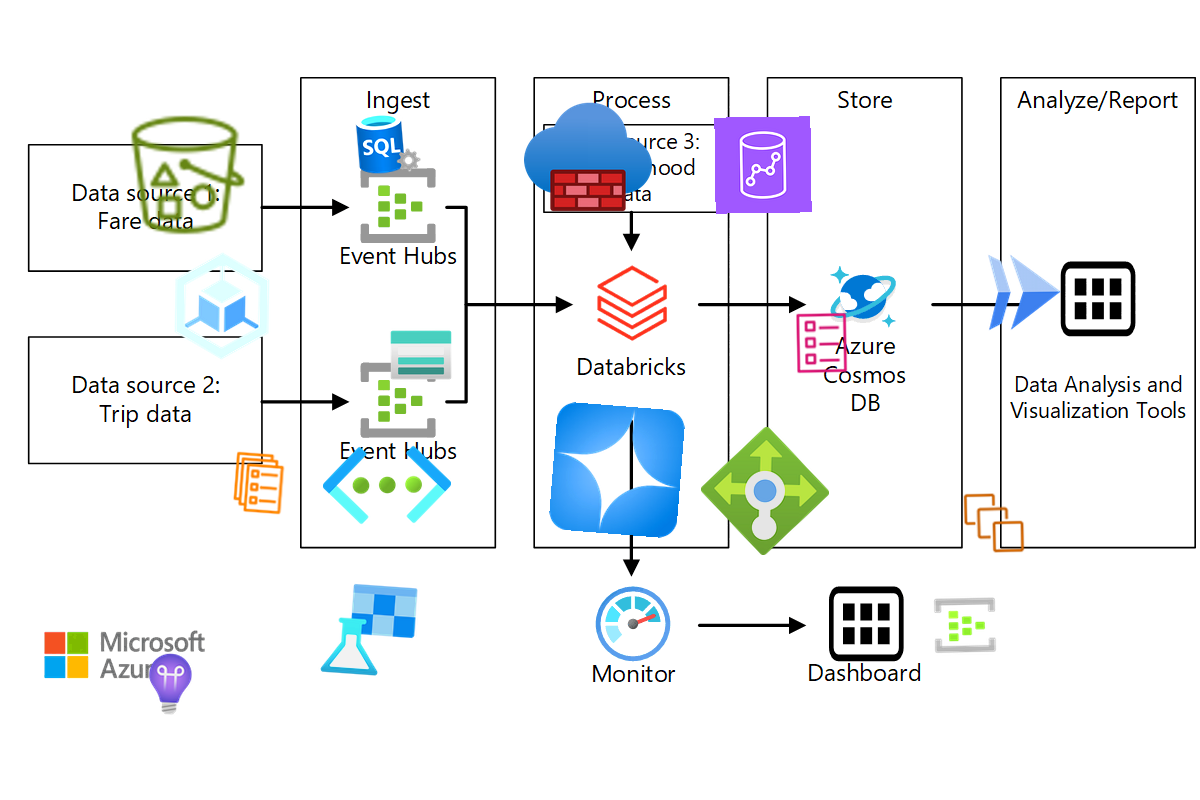aws_amazon_redshift: (714, 116, 812, 214)
aws_cloudformation_template: (788, 310, 854, 376)
aws_ec2_instances: (961, 490, 1027, 556)
aws_elastic_container_service_service: (224, 448, 294, 518)
aws_simple_storage_service_bucket_with_objects: (123, 110, 253, 240)
azure_application_insights: (136, 650, 204, 718)
azure_event_hubs: (932, 592, 998, 658)
azure_firewalls: (523, 92, 653, 222)
azure_load_balancers: (699, 425, 831, 557)
azure_machine_learning_studio_workspaces: (317, 578, 421, 682)
azure_openai: (548, 401, 686, 539)
azure_sql_server: (353, 108, 423, 178)
azure_storage_accounts: (388, 322, 454, 388)
azure_virtual_networks: (321, 419, 453, 551)
gcp_cloud_run: (974, 243, 1072, 341)
gcp_google_kubernetes_engine: (157, 241, 287, 371)
